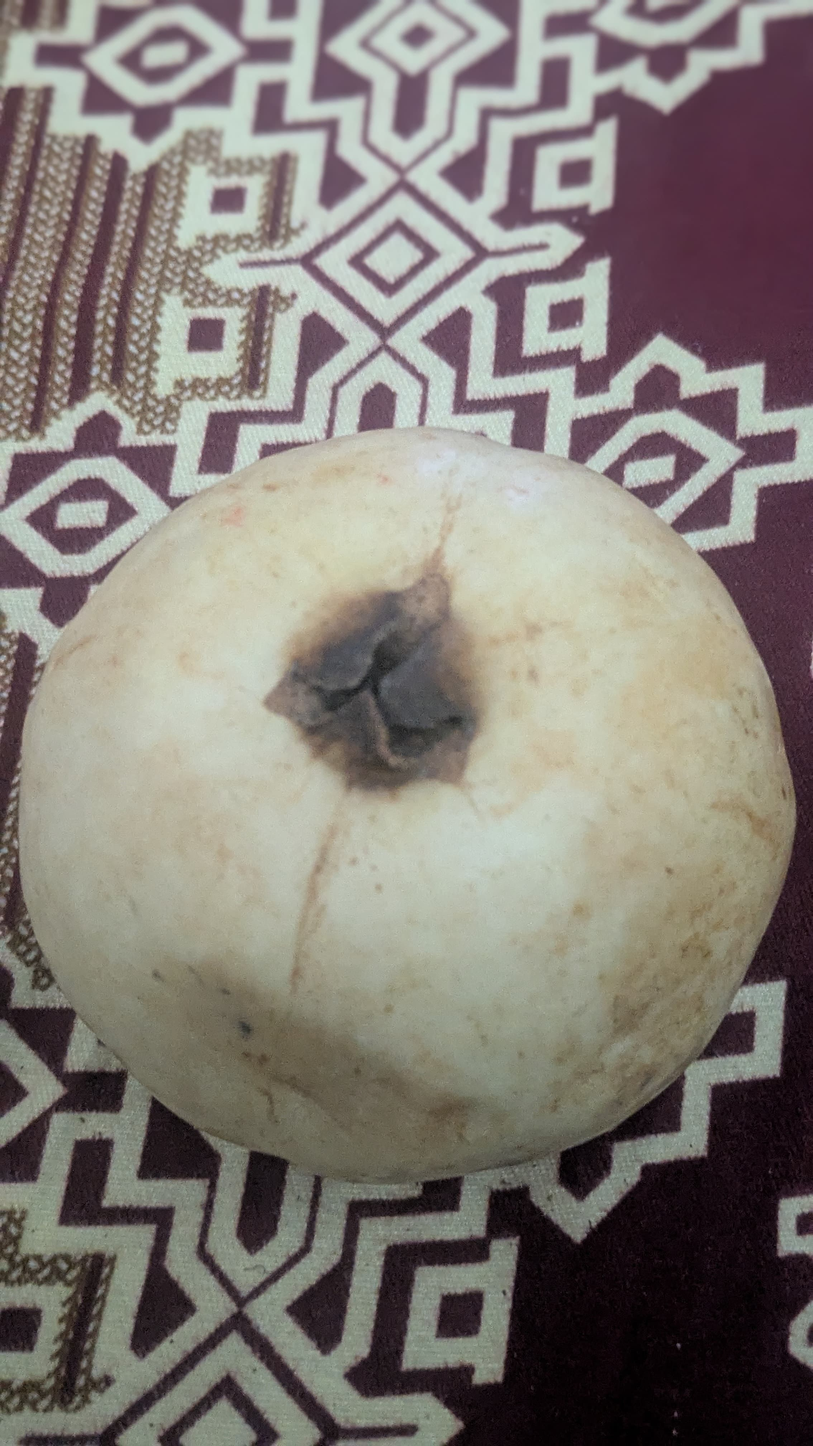guava: (0, 121, 705, 1417)
